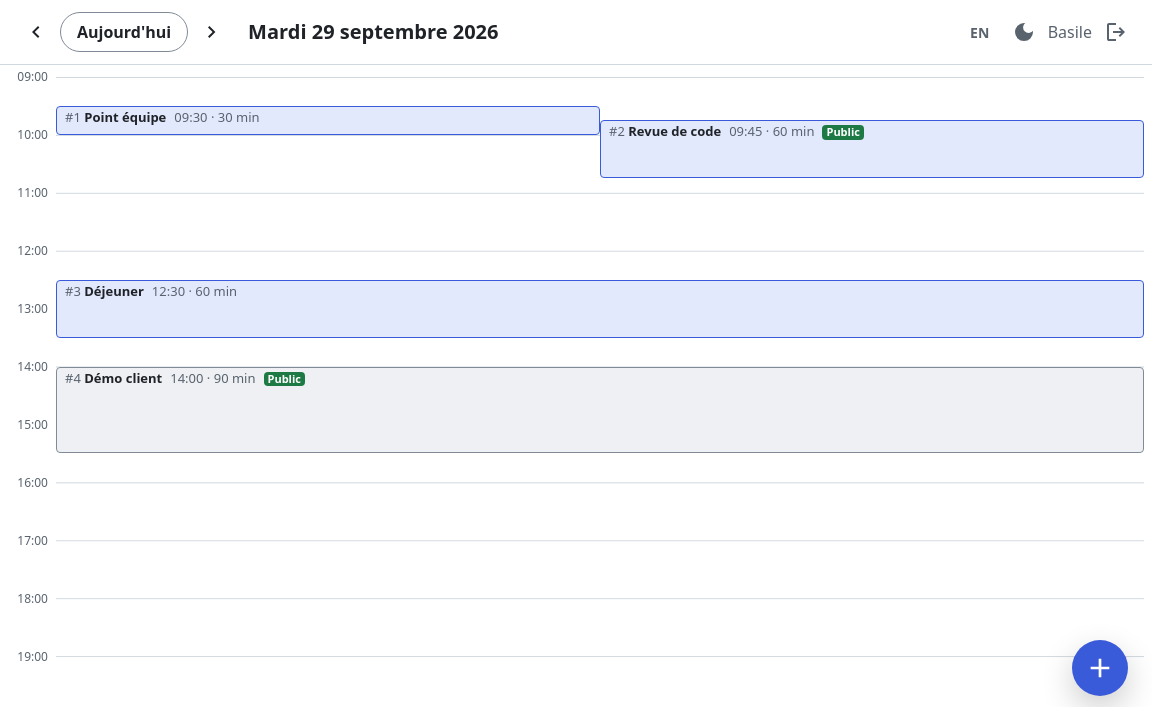
Scenario: edit › the form is prefilled and valid
This screenshot has width=1152, height=707.
Check: the heading "mardi 29 septembre 2026" is shown, box x1=248 y1=20 x2=498 y2=44
Click the button "#3 Déjeuner 12:30 · 60 min" at (114, 291), box x1=56 y1=280 x2=1144 y2=338
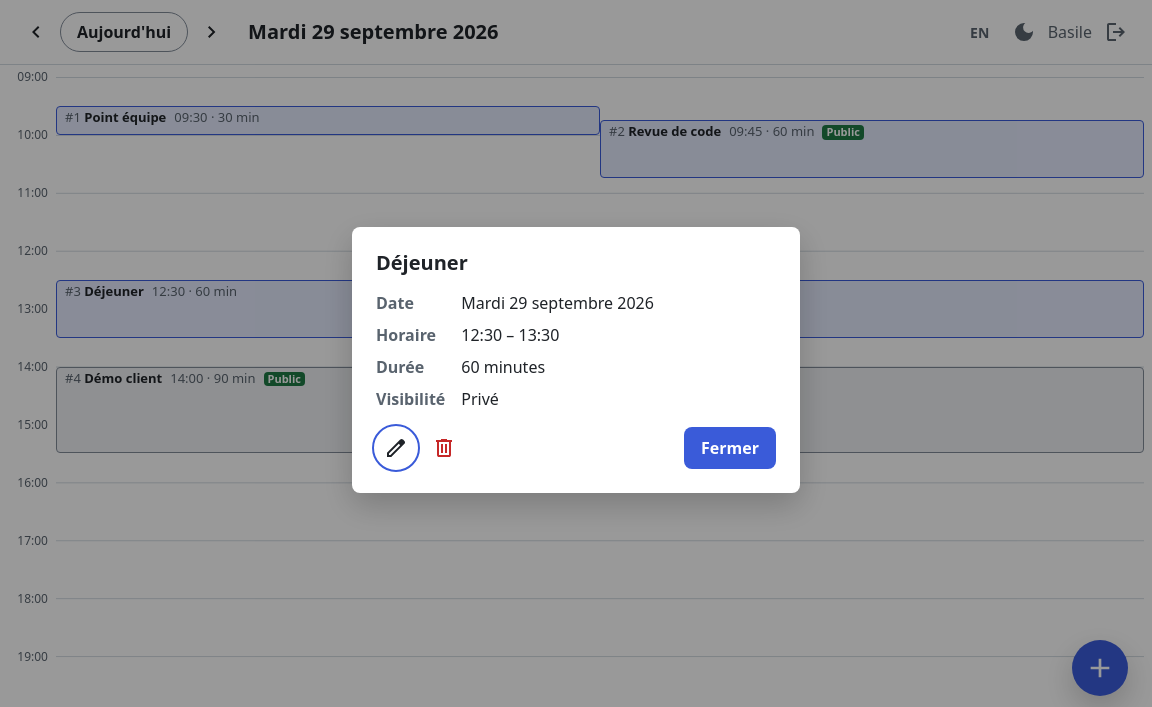
Click the button named "Modifier" at (396, 448), box x1=376 y1=428 x2=416 y2=468
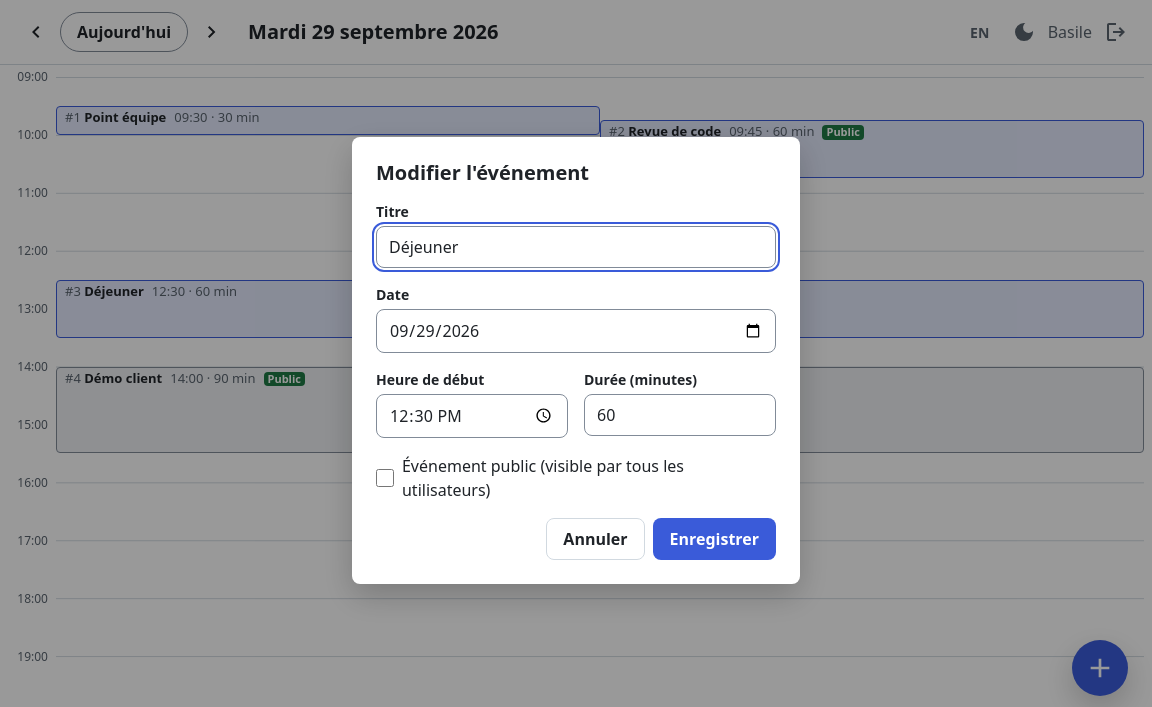
Check: the field labelled "Titre" holds "Déjeuner", box x1=376 y1=226 x2=776 y2=268
Check: the date field labelled "Date" holds "2026-09-29", box x1=376 y1=308 x2=776 y2=352
Check: the time field labelled "Heure de début" holds "12:30", box x1=376 y1=394 x2=568 y2=438
